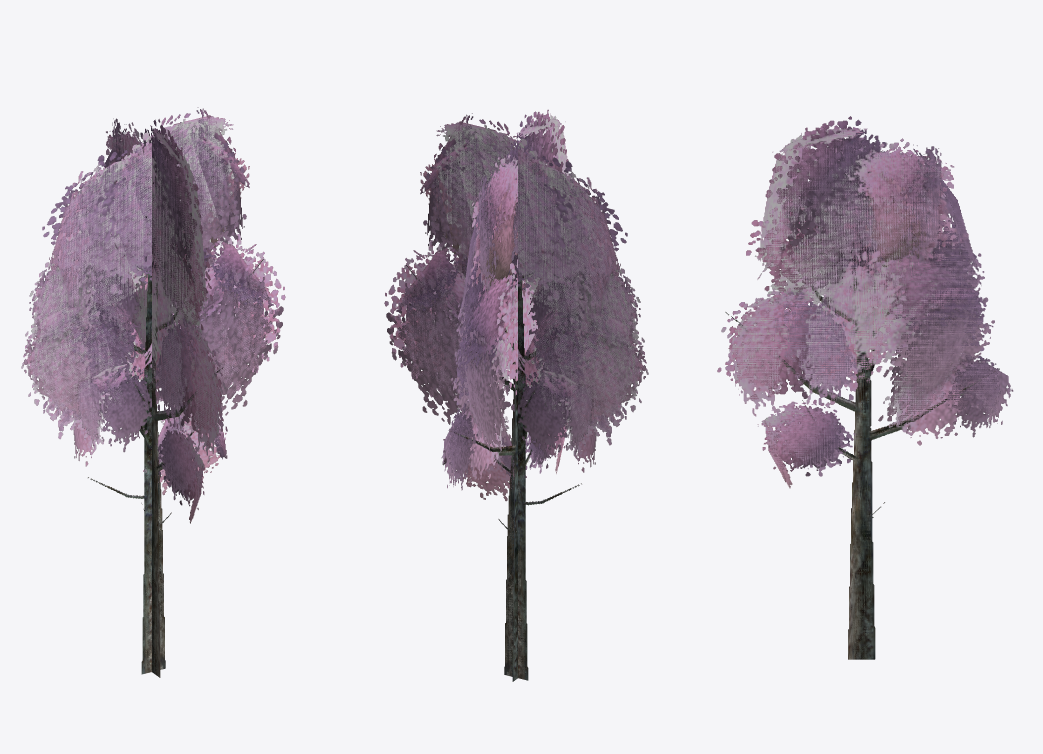
File: Tree_LowPoly.fbx
3 views of the same model, side by side, from view 1: azimuth 30°, elevation 25°; view 2: azimuth 150°, elevation 25°; view 3: azimuth 270°, elevation 25° (orthographic). The views are drawn at different scales.
Visible parts, largest first — view 1: Plane.004; view 2: Plane.004; view 3: Plane.004.
Part boxes in pixels (x1=…): Plane.004: x1=21, y1=107, x2=285, y2=677; Plane.004: x1=384, y1=109, x2=648, y2=681; Plane.004: x1=717, y1=116, x2=1013, y2=659.
Size of the model in its own units: 532 by 987 by 532.
